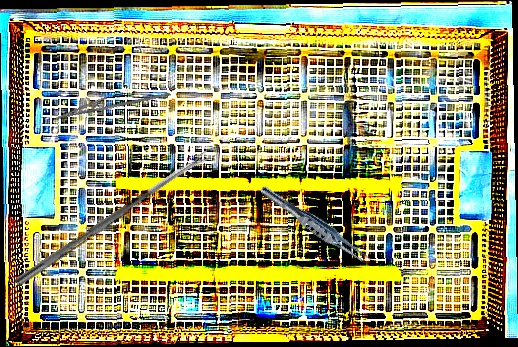Needle Holder: (52, 70, 172, 134)
Surgical Spoon: (14, 149, 212, 289)
Tissue Forceps: (255, 182, 377, 270)
